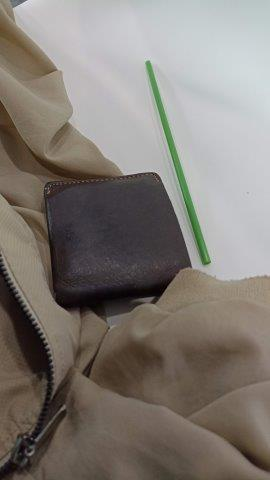sedotan: (144, 61, 210, 264)
